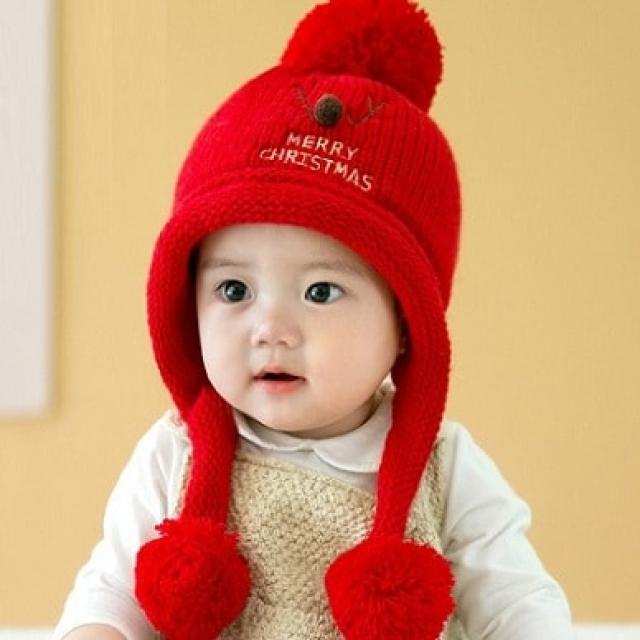non-dog: (38, 0, 580, 640)
